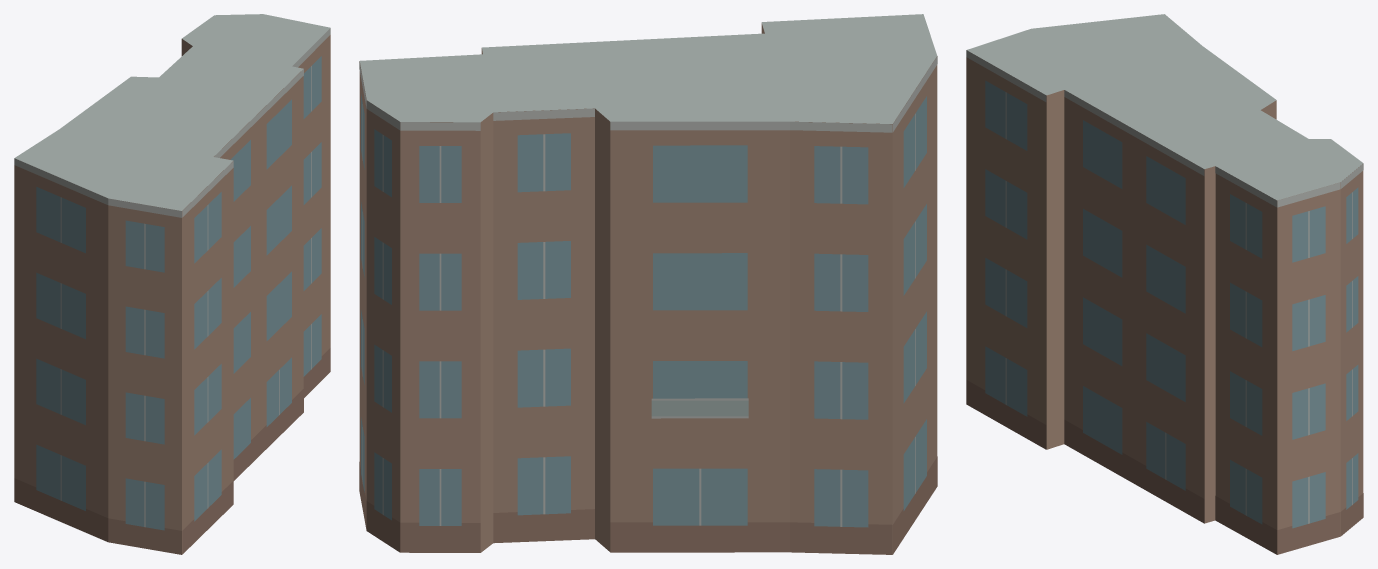
The model's file is survey-upis-32461501.glb.
3 views of the same model, side by side, from view 1: azimuth 30°, elevation 25°; view 2: azimuth 150°, elevation 25°; view 3: azimuth 270°, elevation 25° (orthographic). The views are drawn at different scales.
Parts seen in each view (by area): view 1: survey-upis-32461501.tmp; view 2: survey-upis-32461501.tmp; view 3: survey-upis-32461501.tmp.
Boxes of the visible parts, <box> form: survey-upis-32461501.tmp: <box>14,14,330,554</box>; survey-upis-32461501.tmp: <box>359,14,937,554</box>; survey-upis-32461501.tmp: <box>966,14,1363,554</box>.
Size of the model in its own units: 13.78 by 12.2 by 12.4.
